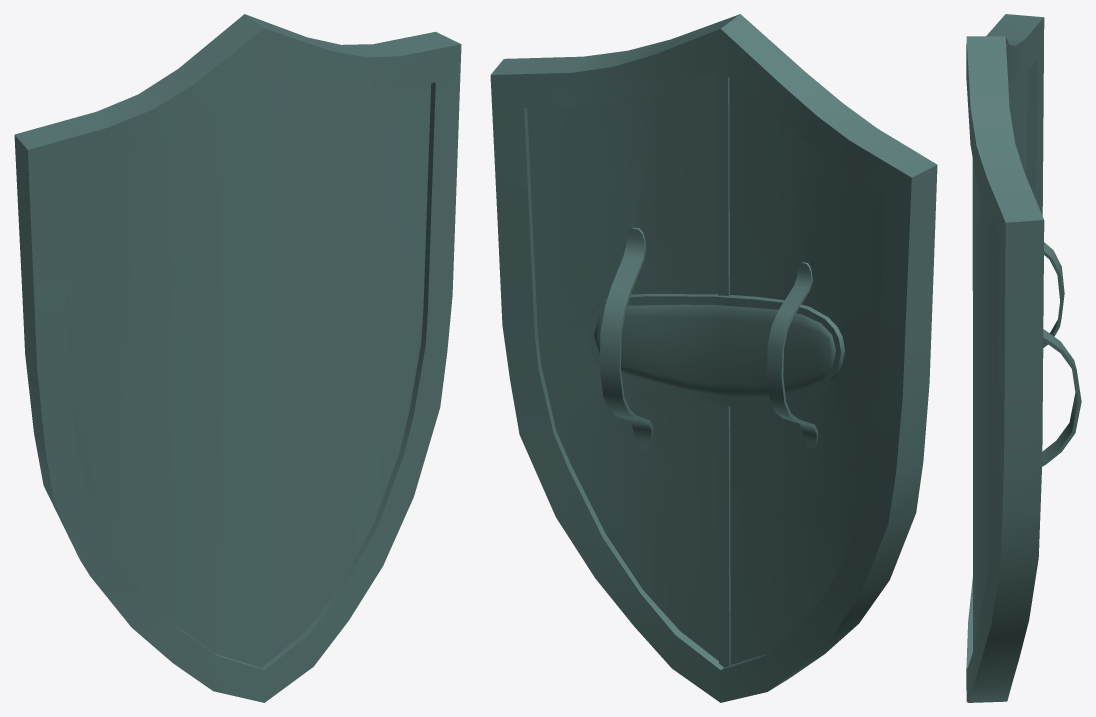
The model's file is SM_mon_shield.fbx.
3 views of the same model, side by side, from view 1: azimuth 30°, elevation 25°; view 2: azimuth 150°, elevation 25°; view 3: azimuth 270°, elevation 25° (orthographic).
Visible parts, largest first — view 1: shield_low; view 2: shield_low; view 3: shield_low.
Boxes of the visible parts, x1,y1,x2,y2 form: shield_low: [14, 14, 461, 702]; shield_low: [490, 14, 937, 702]; shield_low: [966, 14, 1081, 702].
Size of the model in its own units: 66.53 by 98.9 by 15.53.
